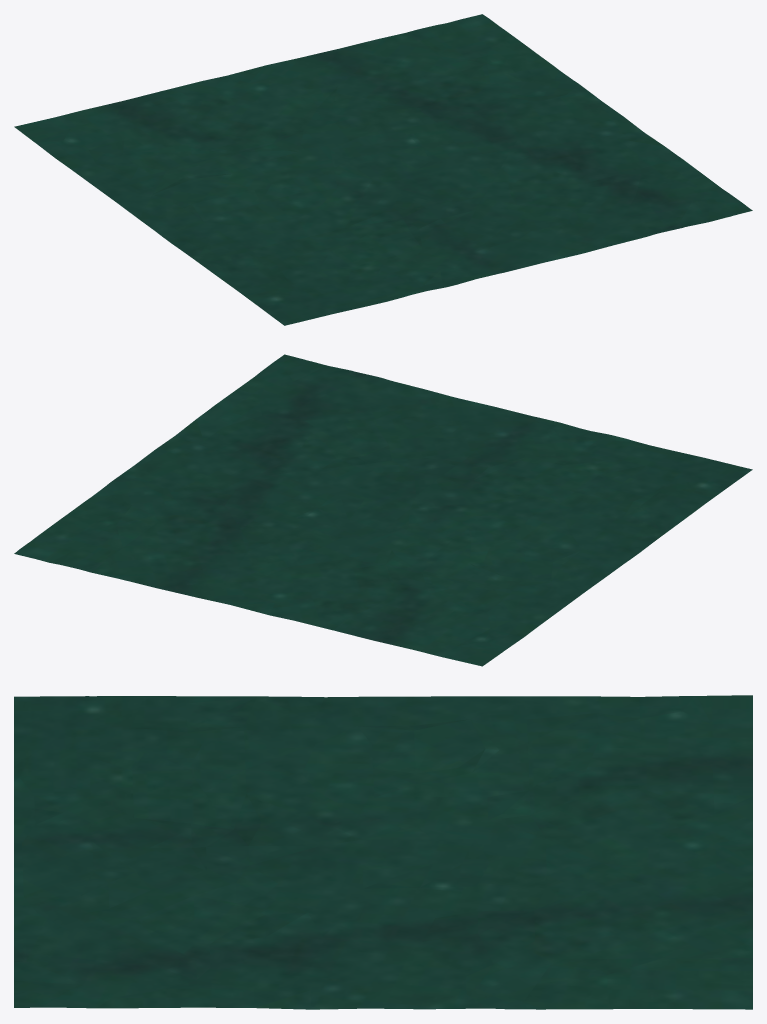
3 renders of one model, top to bottom at view 1: azimuth 30°, elevation 25°; view 2: azimuth 150°, elevation 25°; view 3: azimuth 270°, elevation 25°, orthographic. The views are drawn at different scales.
Bounding box in the file's own units: 52.22 × 0.3441 × 52.22.
Materials: 3 (3 with a texture image).
